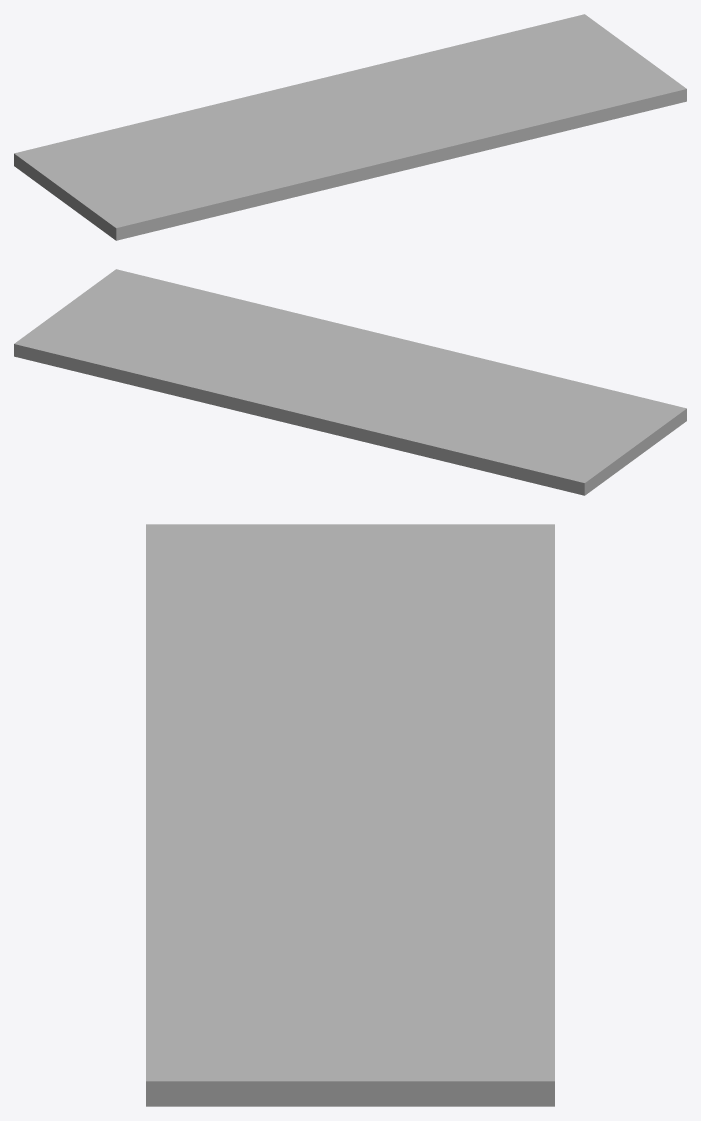
Rendered from wood.fbx.
3 renders of one model, top to bottom at view 1: azimuth 30°, elevation 25°; view 2: azimuth 150°, elevation 25°; view 3: azimuth 270°, elevation 25°, orthographic. The views are drawn at different scales.
Parts seen in each view (by area): view 1: wood1; view 2: wood1; view 3: wood1.
Boxes of the visible parts, x1=… form: wood1: x1=14, y1=14, x2=686, y2=240; wood1: x1=14, y1=269, x2=686, y2=495; wood1: x1=146, y1=524, x2=554, y2=1106.
Bounding box in the file's own units: 178 × 3.75 × 55.13.
